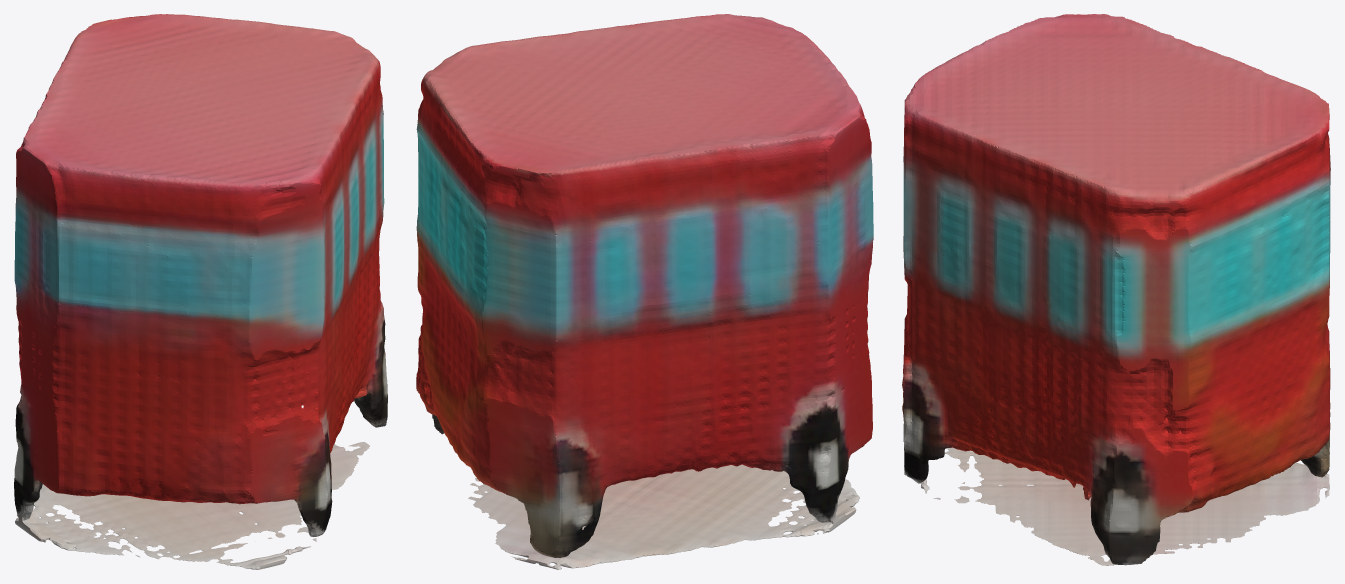
The model's file is glb_c327ee1f76ac.glb.
3 renders of one model, left to right at view 1: azimuth 30°, elevation 25°; view 2: azimuth 150°, elevation 25°; view 3: azimuth 270°, elevation 25°, orthographic. The views are drawn at different scales.
Visible parts, largest first — view 1: world; view 2: world; view 3: world.
Part boxes in pixels (x1=…): world: x1=14, y1=14, x2=387, y2=569; world: x1=416, y1=14, x2=873, y2=569; world: x1=902, y1=14, x2=1330, y2=565.
Bounding box in the file's own units: 1.99 × 1.97 × 1.99.
